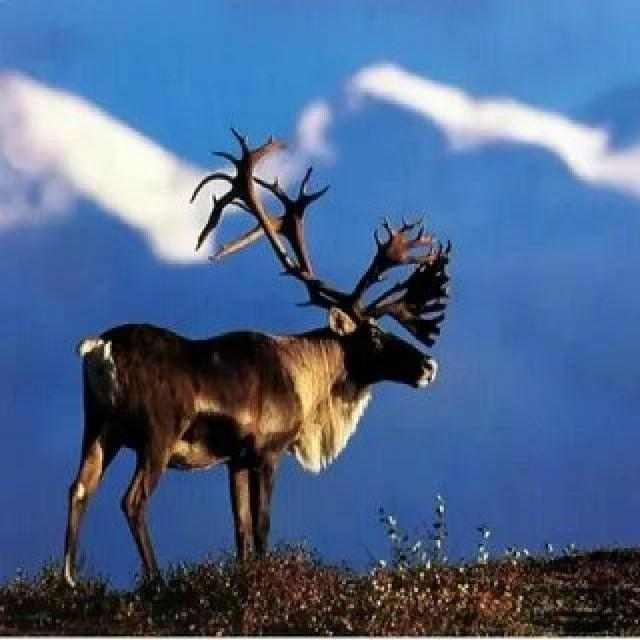deer: (57, 212, 430, 567)
